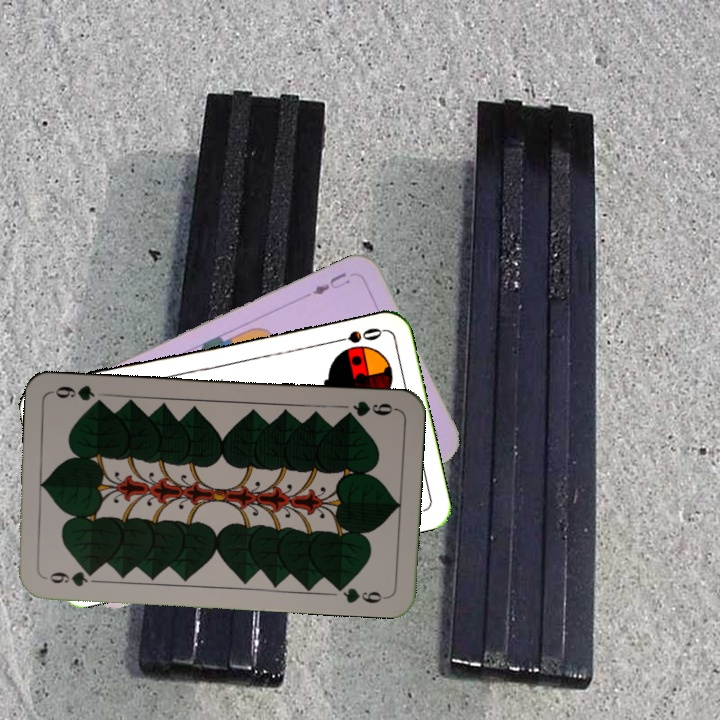EU: (309, 268, 352, 298)
G9: (339, 397, 399, 421), (46, 567, 98, 590)
SO: (326, 323, 385, 347)
